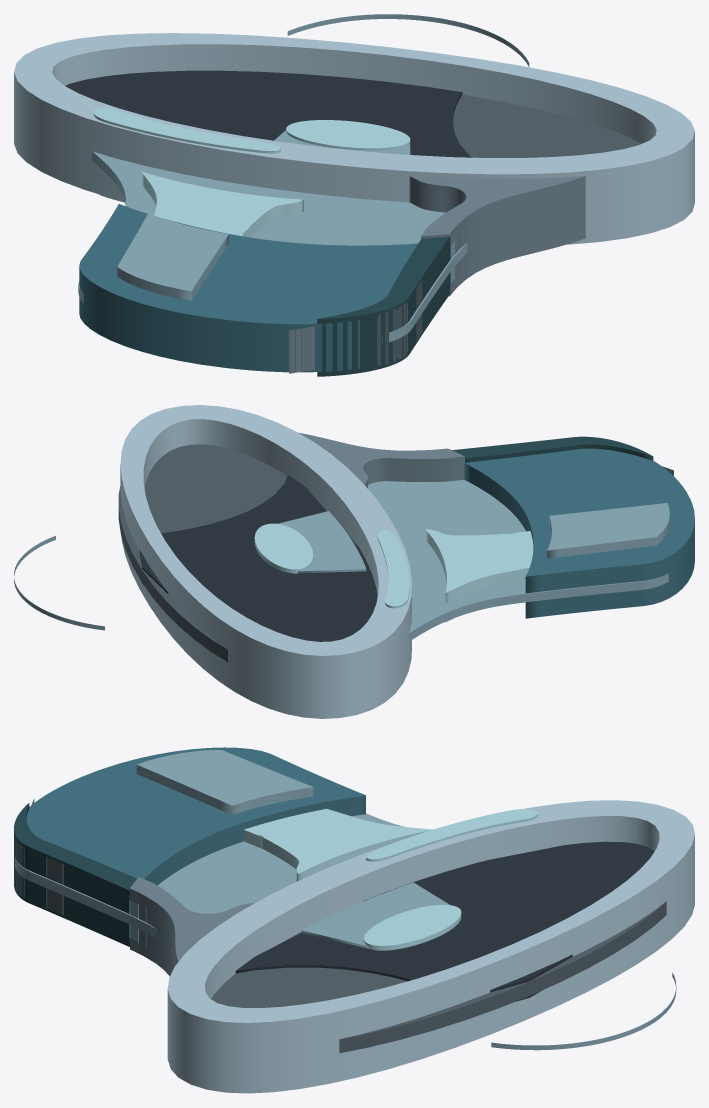
Rendered from emoji_u1f509.glb.
3 renders of one model, top to bottom at view 1: azimuth 30°, elevation 25°; view 2: azimuth 150°, elevation 25°; view 3: azimuth 270°, elevation 25°, orthographic. The views are drawn at different scales.
Parts seen in each view (by area): view 1: emoji_u1f509; view 2: emoji_u1f509; view 3: emoji_u1f509.
Part boxes in pixels (x1,y1,x2,y2): emoji_u1f509: (14,14,694,376); emoji_u1f509: (14,405,694,718); emoji_u1f509: (14,747,694,1093).
Bounding box in the file's own units: 0.0262 × 0.0032 × 0.0263.
